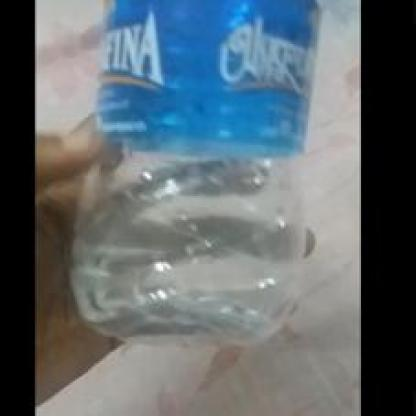bottle: (87, 0, 315, 366)
